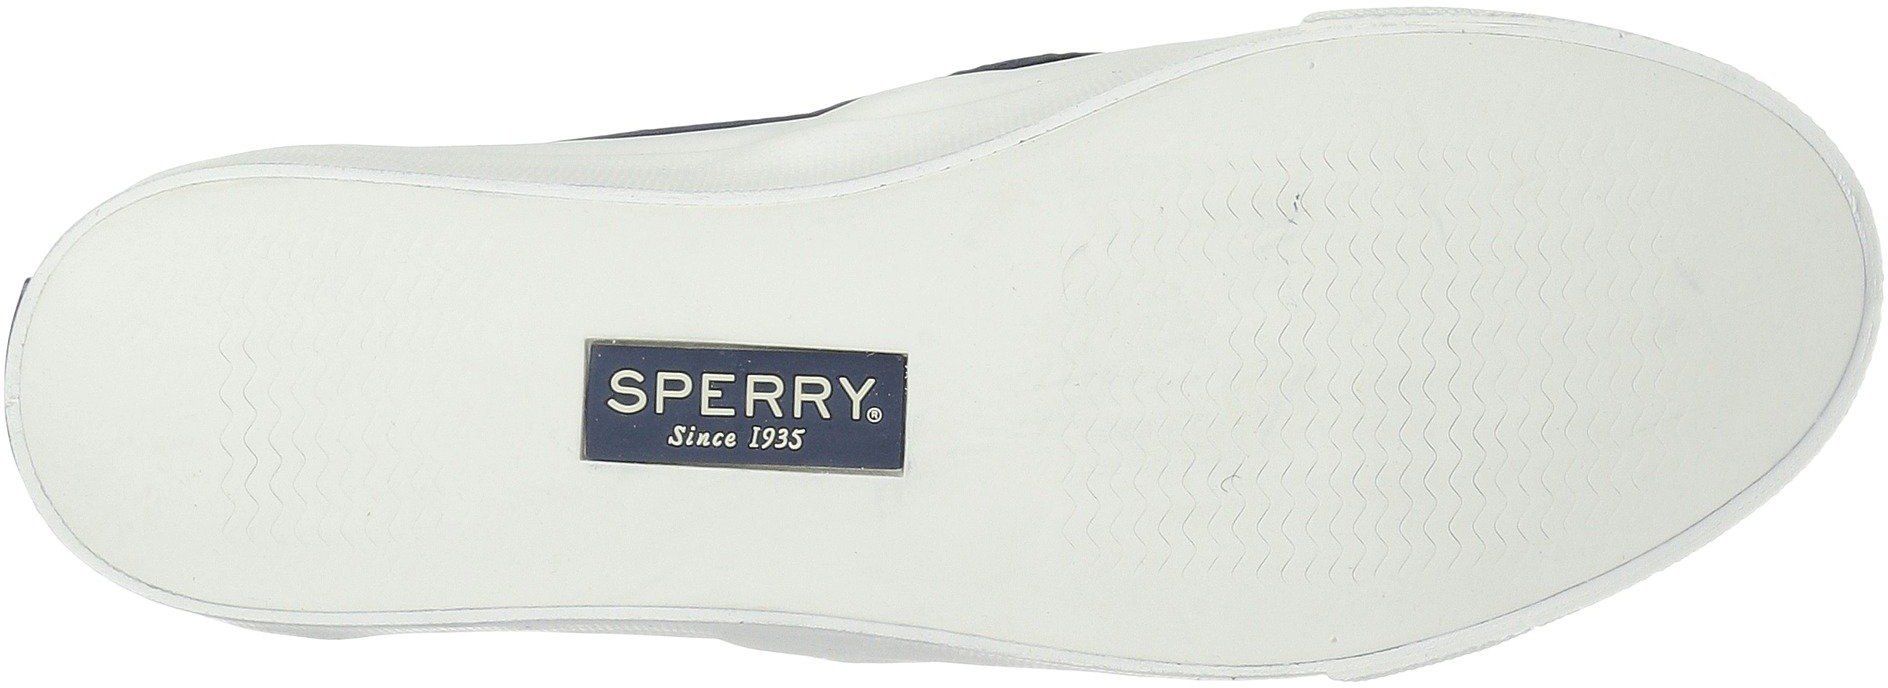chevron: (1135, 100, 1659, 540), (202, 248, 489, 512)
circle: (553, 246, 930, 577)
quad: (553, 246, 930, 577)
text: (553, 246, 930, 577), (700, 357, 796, 439), (603, 353, 696, 433), (793, 361, 881, 443)
